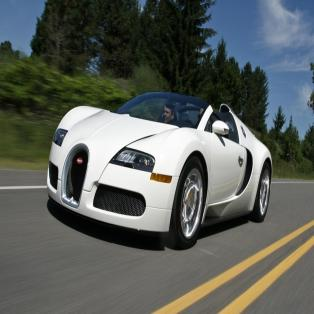Auto: (46, 90, 273, 250)
